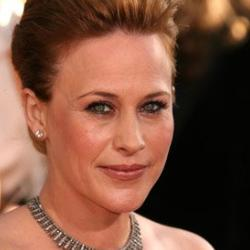face: (8, 2, 190, 225)
